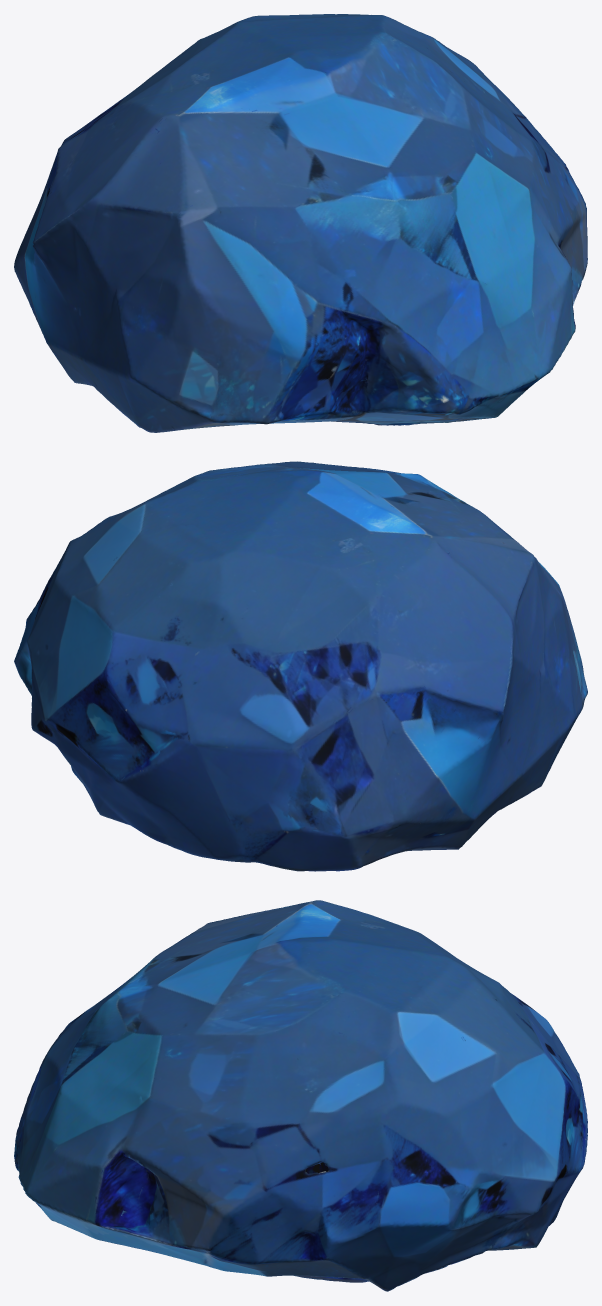
File: BlueGem.glb
3 renders of one model, top to bottom at view 1: azimuth 30°, elevation 25°; view 2: azimuth 150°, elevation 25°; view 3: azimuth 270°, elevation 25°, orthographic. The views are drawn at different scales.
Visible parts, largest first — view 1: BlueGem.001; view 2: BlueGem.001; view 3: BlueGem.001.
Boxes of the visible parts, bbox=[...] form: BlueGem.001: bbox=[14, 14, 587, 432]; BlueGem.001: bbox=[14, 461, 587, 871]; BlueGem.001: bbox=[14, 900, 587, 1291].
Bounding box in the file's own units: 0.1137 × 0.0726 × 0.1204.
Materials: 1 (1 with a texture image).
